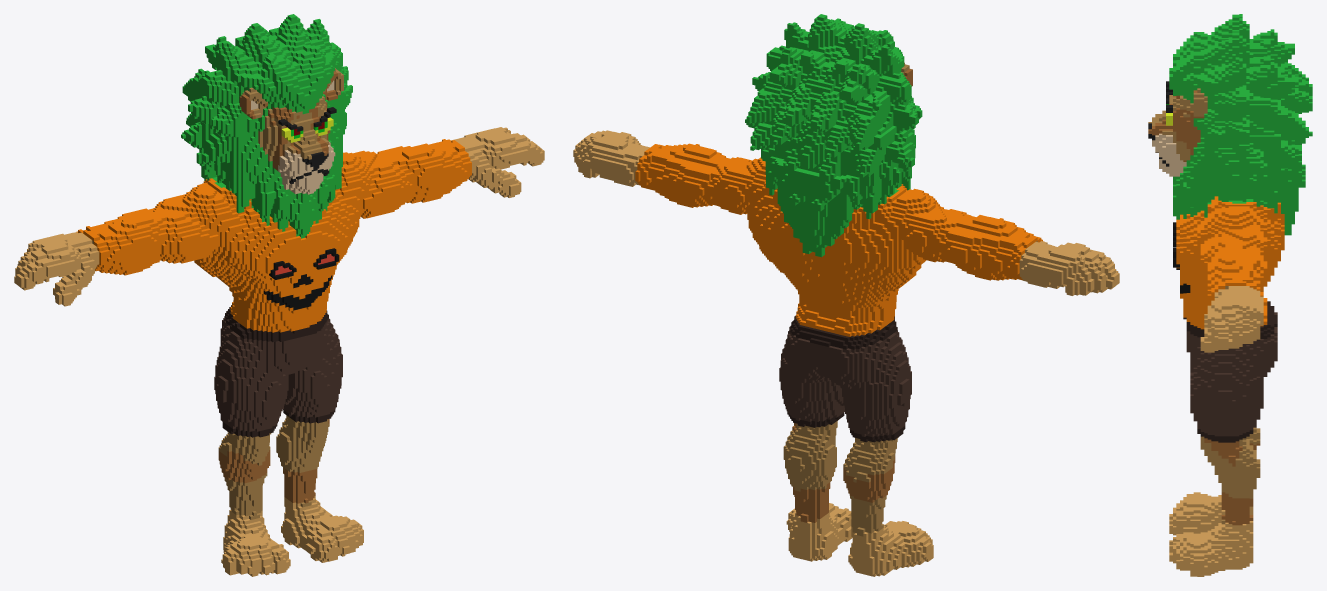
The model's file is 72-CIdaGF-S.glb.
The picture shows the model from 3 angles, left to right: view 1: azimuth 30°, elevation 25°; view 2: azimuth 150°, elevation 25°; view 3: azimuth 270°, elevation 25°; orthographic projection. The views are drawn at different scales.
Visible parts, largest first — view 1: sad; view 2: sad; view 3: sad.
Part boxes in pixels (box(x1,y1,x2,y2)): sad: box(14, 14, 544, 576); sad: box(573, 14, 1119, 576); sad: box(1148, 14, 1312, 576).
Bounding box in the file's own units: 17.2 × 16.5 × 4.7.
5 materials, 5 textured.
